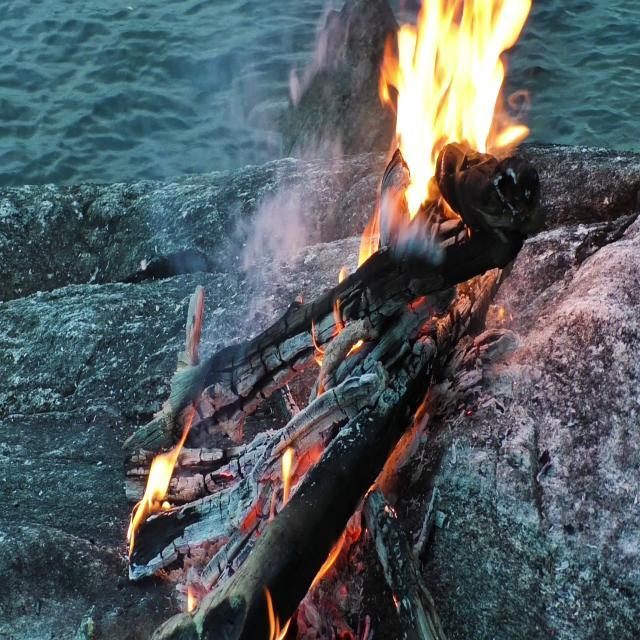Fire: (351, 0, 537, 265), (214, 418, 340, 639), (120, 413, 193, 551)
